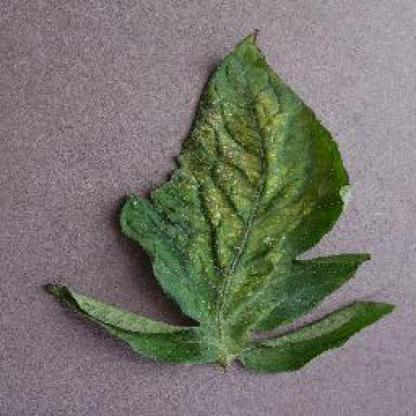Tomato_Spider_Mites: (49, 28, 396, 372)
